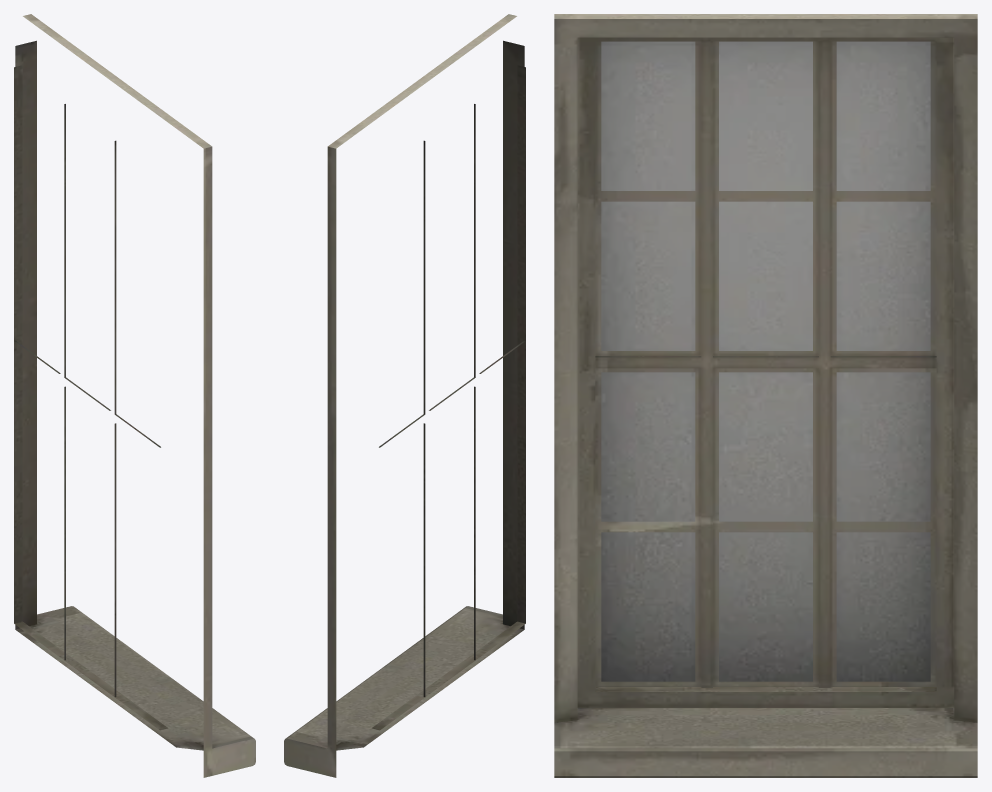
3 views of the same model, side by side, from view 1: azimuth 30°, elevation 25°; view 2: azimuth 150°, elevation 25°; view 3: azimuth 270°, elevation 25° (orthographic). The views are drawn at different scales.
Parts seen in each view (by area): view 1: body0_model0_lod0_mesh0; view 2: body0_model0_lod0_mesh0; view 3: body0_model0_lod0_mesh0.
Part boxes in pixels (box(x1,y1,x2,y2)): body0_model0_lod0_mesh0: box(14, 14, 255, 777); body0_model0_lod0_mesh0: box(284, 14, 525, 777); body0_model0_lod0_mesh0: box(554, 14, 977, 777).
Size of the model in its own units: 13.49 by 103 by 54.01.
1 material, 1 textured.
